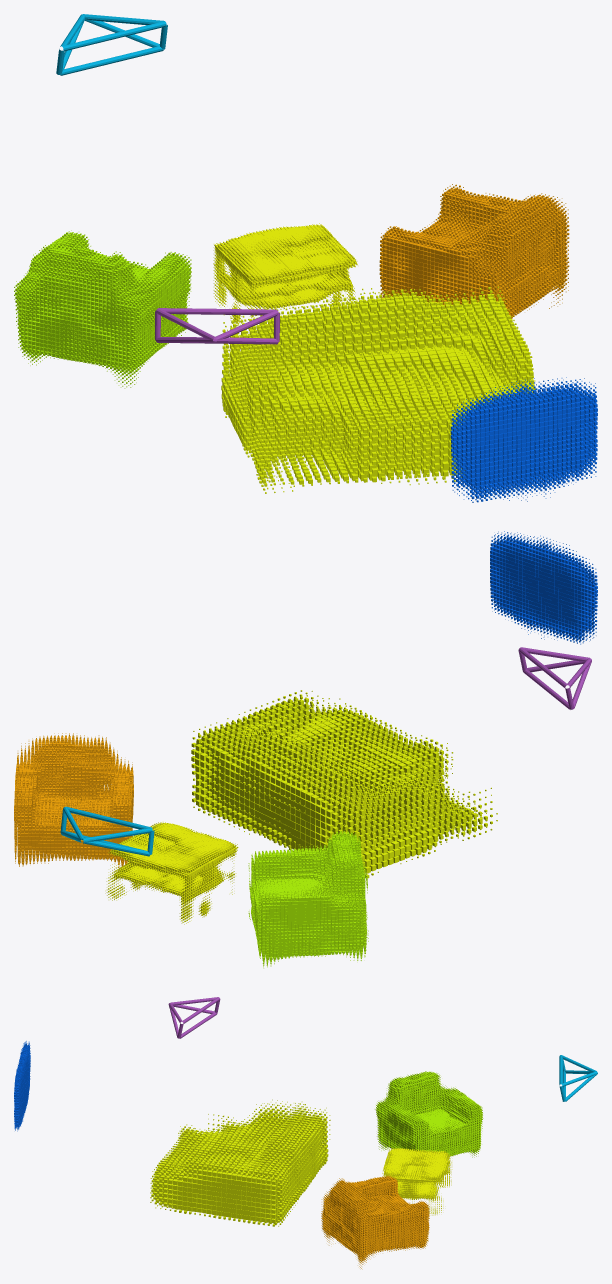
Rendered from Prediction.glb.
3 views of the same model, one above another, from view 1: azimuth 30°, elevation 25°; view 2: azimuth 150°, elevation 25°; view 3: azimuth 270°, elevation 25° (orthographic). The views are drawn at different scales.
Visible parts, largest first — view 1: Node; view 2: Node; view 3: Node.
Part boxes in pixels (x1,y1,x2,y2): Node: (14, 14, 597, 502); Node: (14, 531, 597, 968); Node: (14, 997, 597, 1269).
Bounding box in the file's own units: 4.17 × 1.63 × 6.76.
